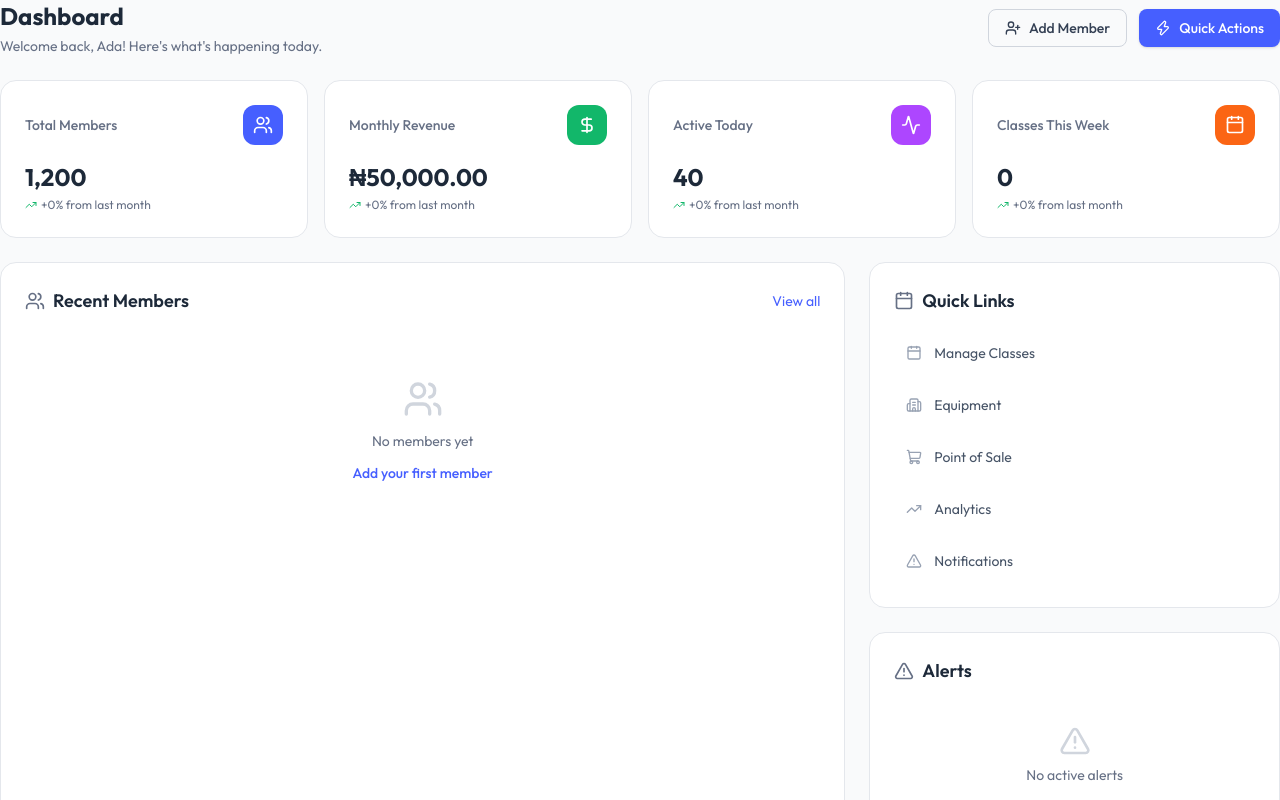
Test: DashboardPage › Quick Actions opens a panel of shortcuts instead of navigating away
This screenshot has width=1280, height=800.
Click the button "Quick Actions" at point(1210, 28), box [1139, 9, 1279, 47]
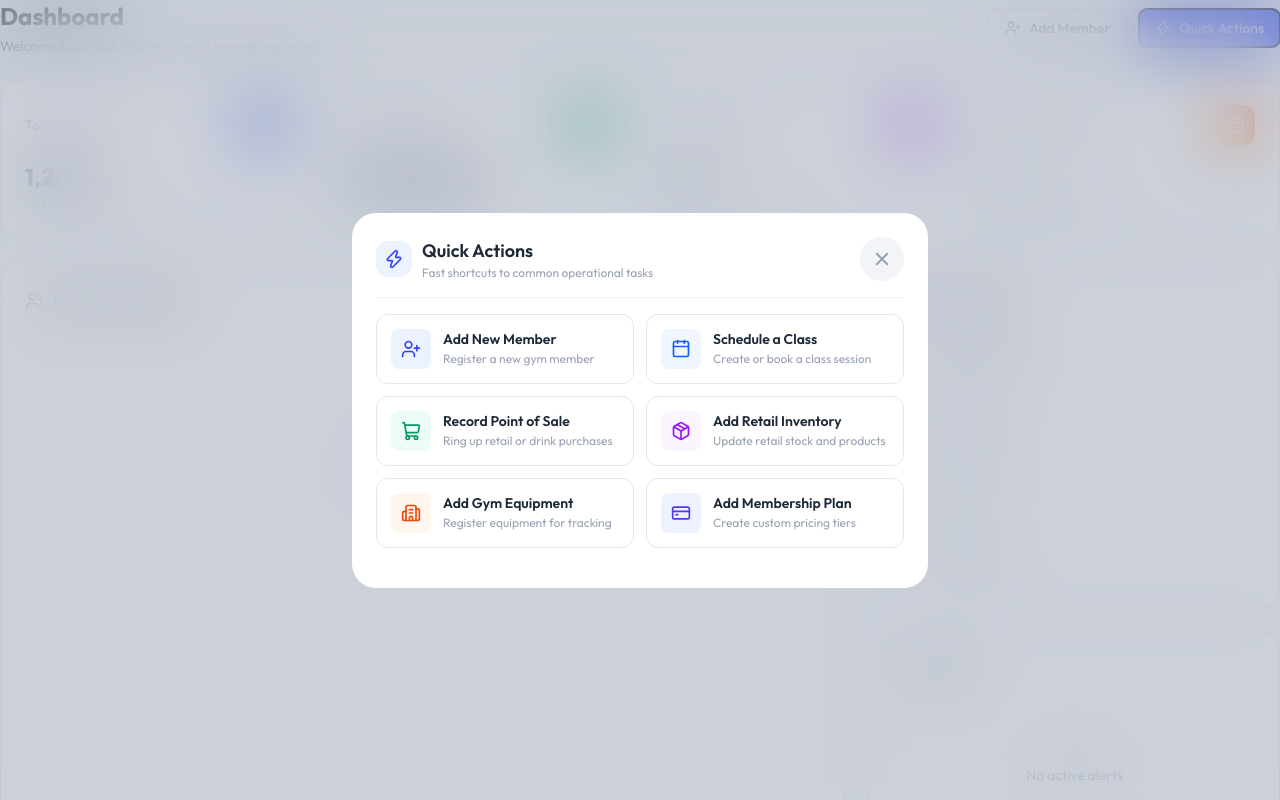
Result: the heading "Quick Actions" is shown at [422, 238, 533, 262]
Result: the heading "Add New Member" is shown at [443, 330, 556, 348]
Result: the heading "Record Point of Sale" is shown at [443, 412, 570, 430]
